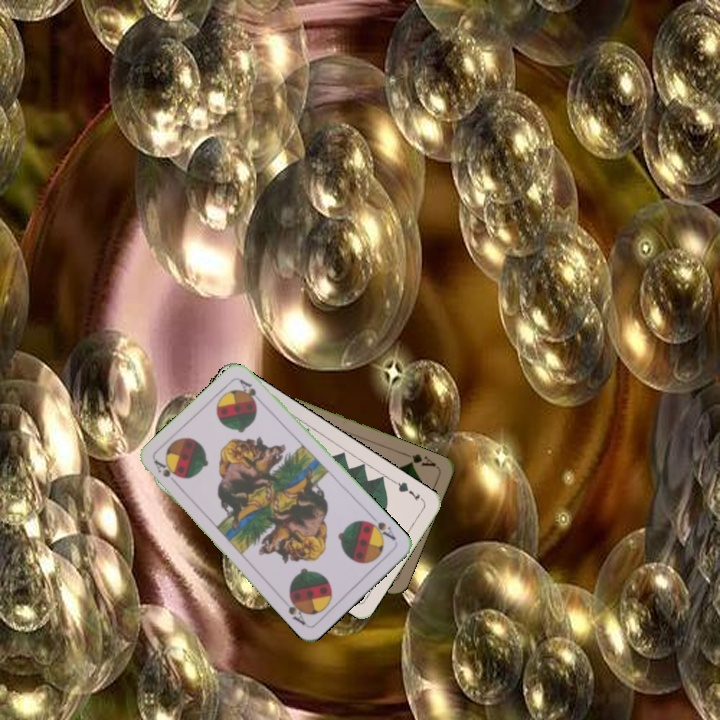G7: (390, 477, 426, 504)
GA: (400, 449, 438, 469)
SA: (149, 456, 182, 489), (363, 512, 398, 543)
